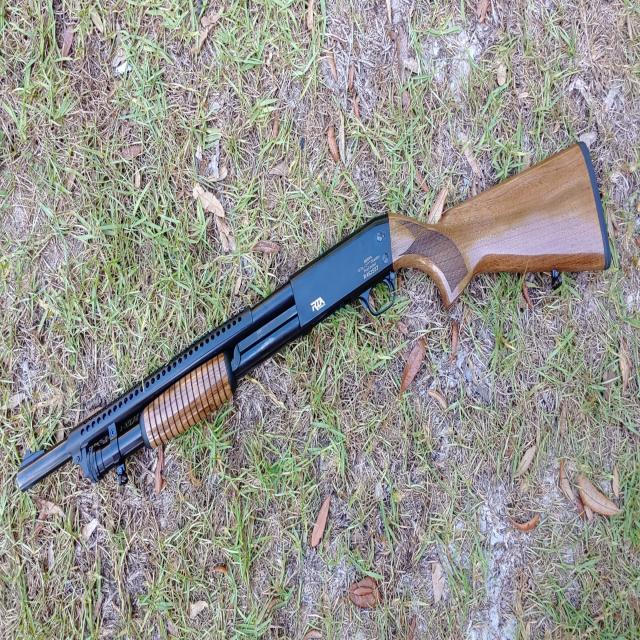ShotGun: (16, 144, 611, 494)
